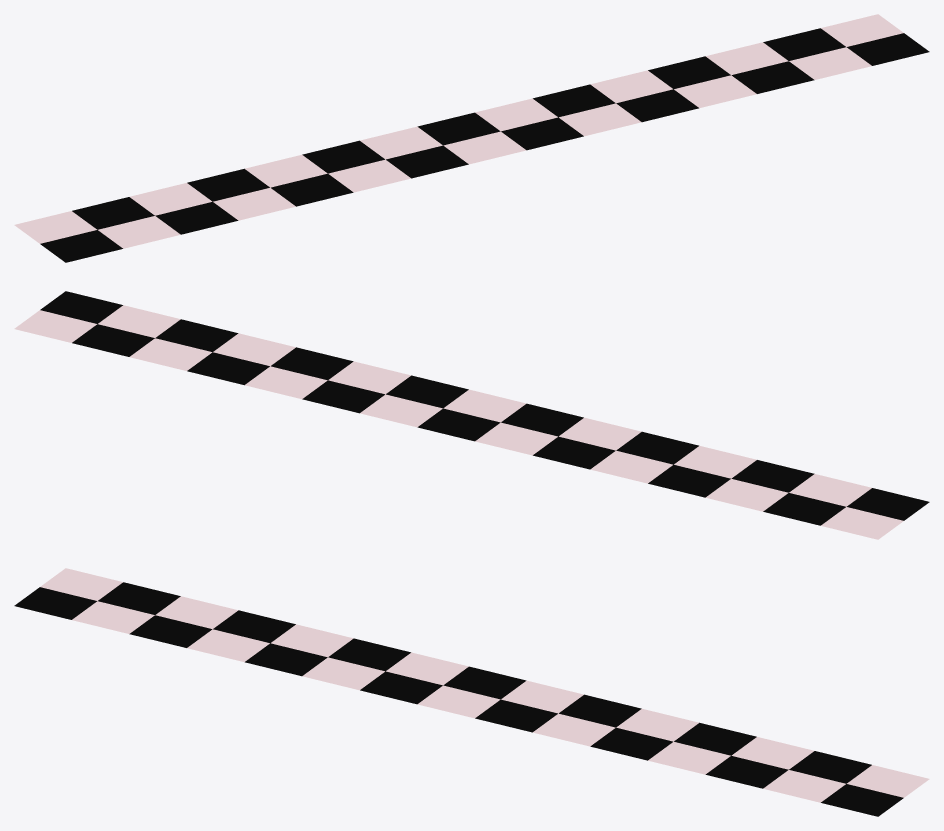
Rendered from finish.fbx.
3 views of the same model, one above another, from view 1: azimuth 30°, elevation 25°; view 2: azimuth 150°, elevation 25°; view 3: azimuth 330°, elevation 25° (orthographic).
Parts seen in each view (by area): view 1: finish; view 2: finish; view 3: finish.
Boxes of the visible parts, x1,y1,x2,y2 form: finish: [14, 14, 929, 262]; finish: [14, 291, 929, 539]; finish: [14, 568, 929, 816].
Size of the model in its own units: 10.48 by 1.7e-06 by 1.09.
